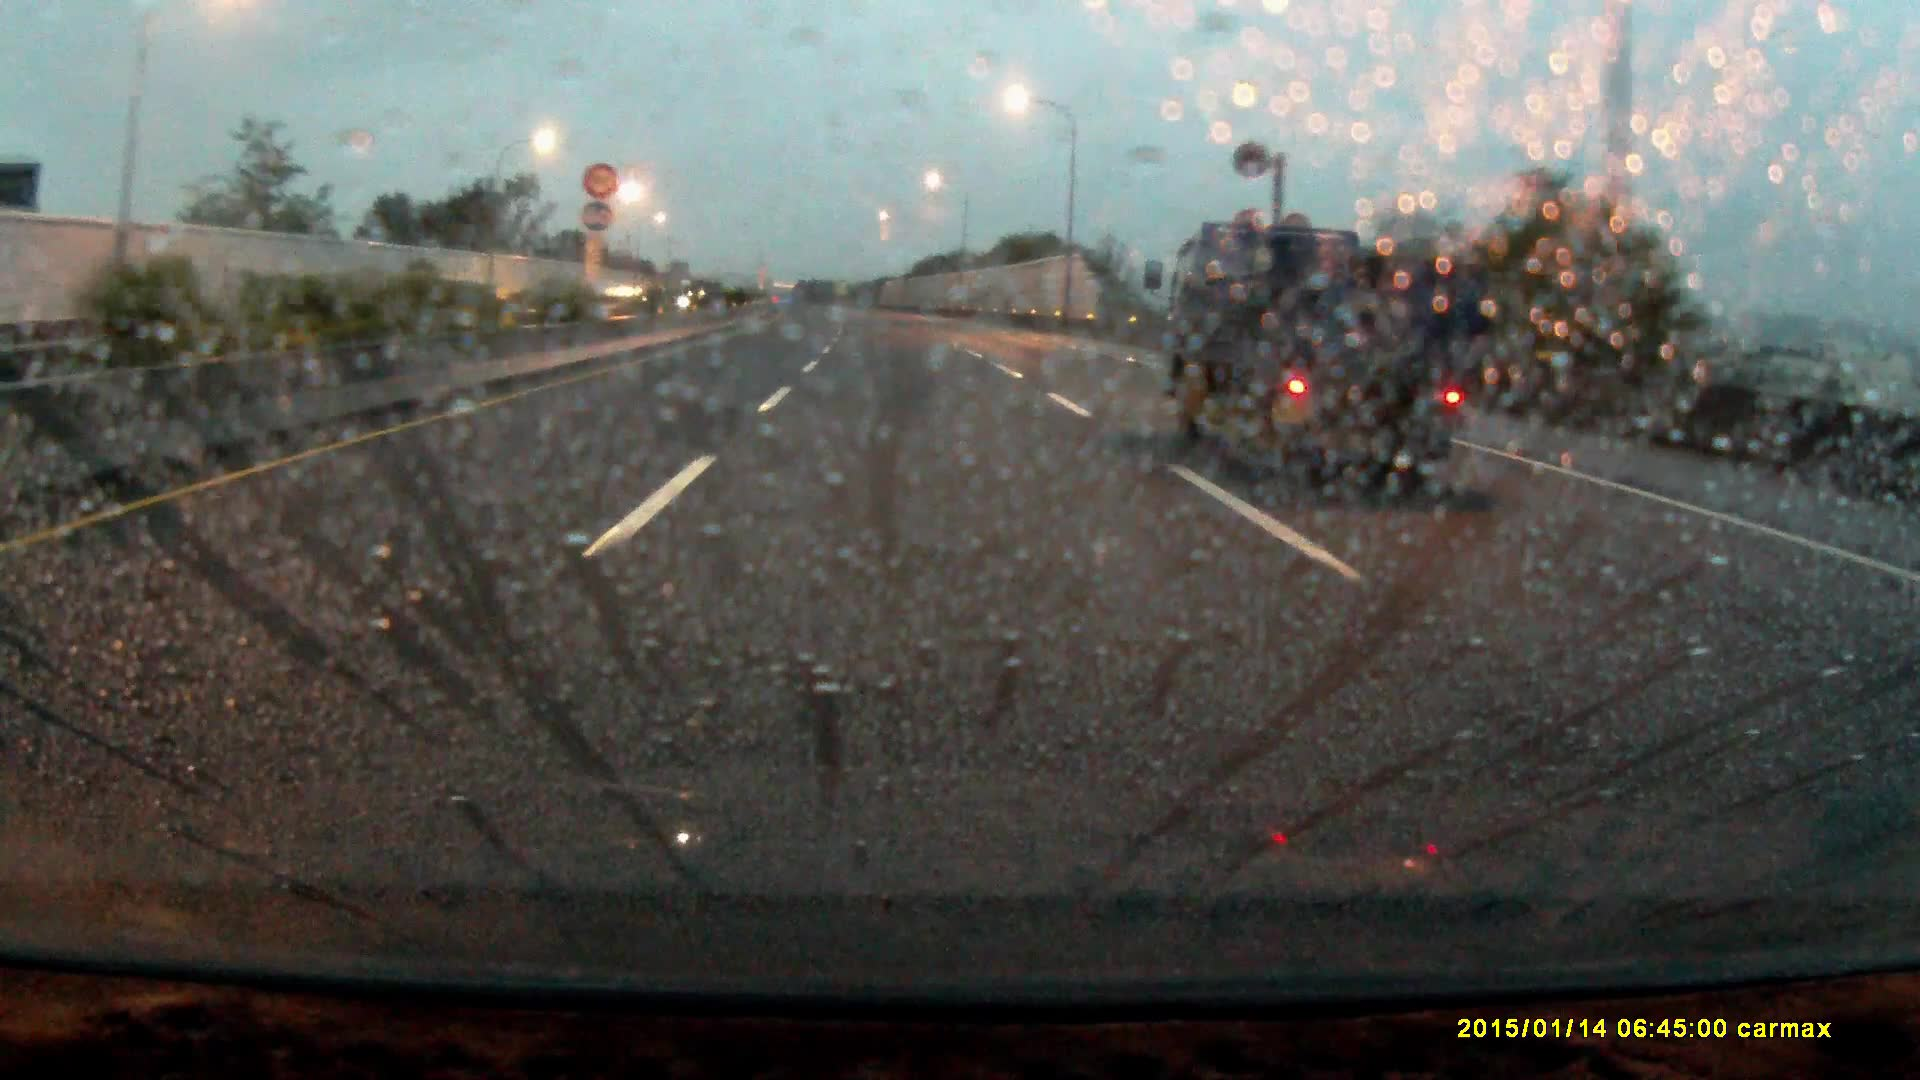vehicle: (1193, 207, 1499, 512)
